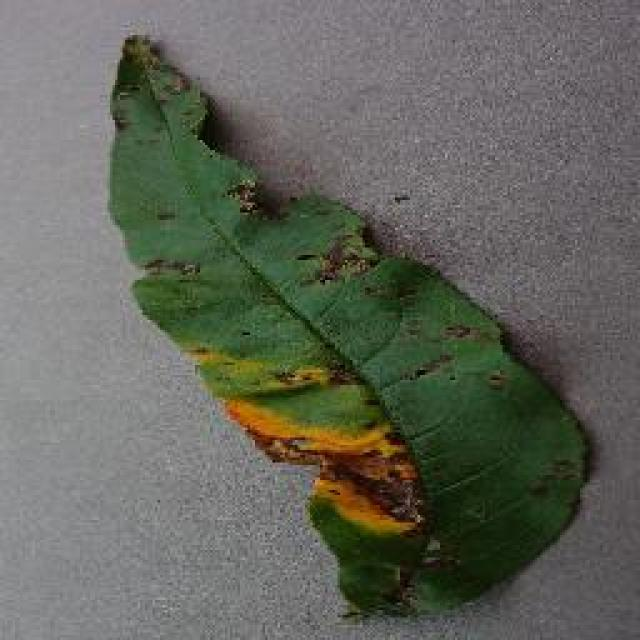Peach_Bacterial_Spot: (102, 44, 470, 518)
